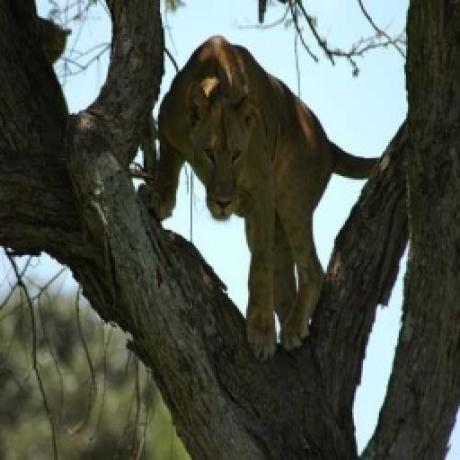Lion: (141, 32, 380, 363)
